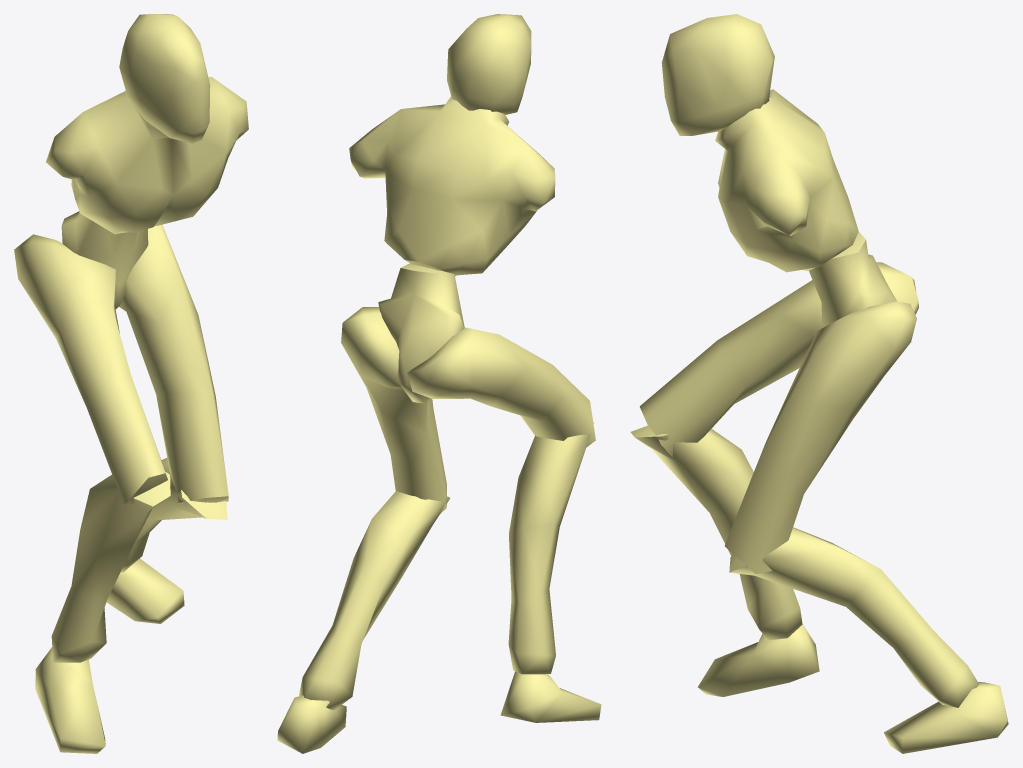
Rendered from filth25.obj.
3 renders of one model, left to right at view 1: azimuth 30°, elevation 25°; view 2: azimuth 150°, elevation 25°; view 3: azimuth 270°, elevation 25°, orthographic. The views are drawn at different scales.
Parts seen in each view (by area): view 1: Melee_Husk; view 2: Melee_Husk; view 3: Melee_Husk.
Boxes of the visible parts, x1=… form: Melee_Husk: x1=14, y1=14, x2=248, y2=753; Melee_Husk: x1=277, y1=14, x2=601, y2=753; Melee_Husk: x1=630, y1=14, x2=1008, y2=753.
Size of the model in its own units: 22.66 by 69.32 by 33.28.
